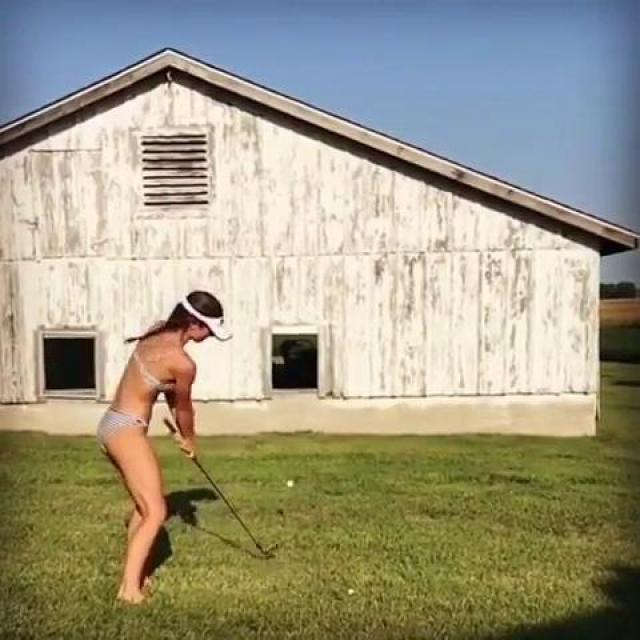ClubHead: (263, 540, 280, 554)
GolfBall: (282, 478, 294, 491)
